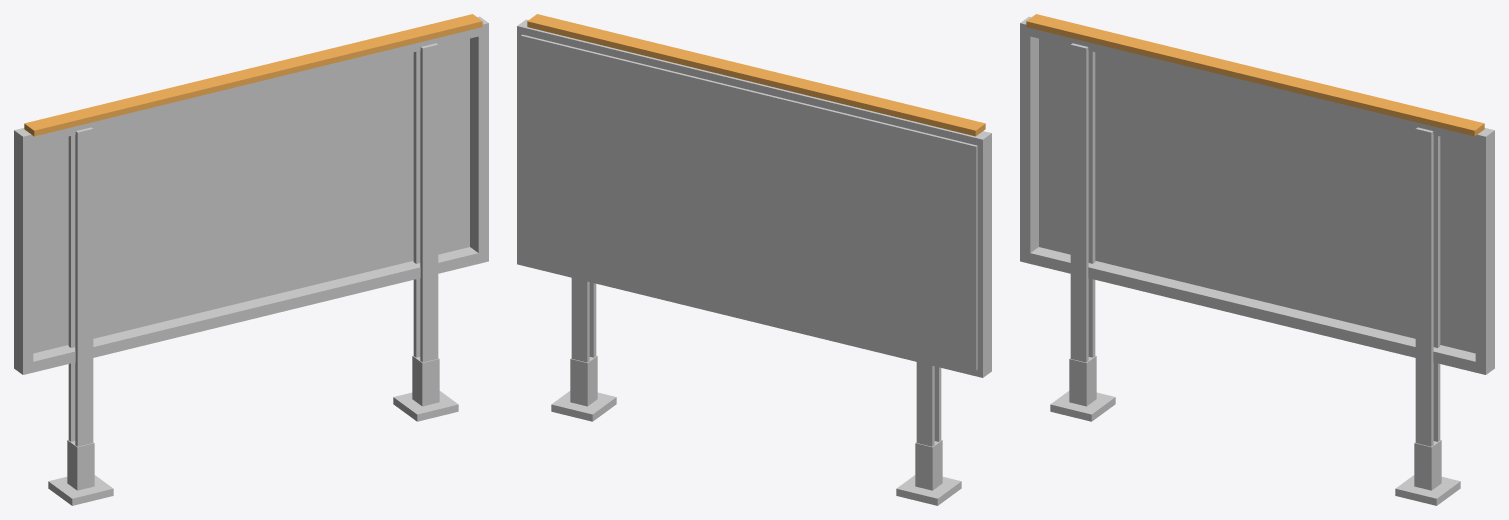
Rendered from GuideSign.glb.
3 renders of one model, left to right at view 1: azimuth 30°, elevation 25°; view 2: azimuth 150°, elevation 25°; view 3: azimuth 330°, elevation 25°, orthographic.
Parts seen in each view (by area): view 1: Body, Glow; view 2: Body, Glow; view 3: Body, Glow.
Boxes of the visible parts, bbox=[...] form: Body: bbox=[14, 16, 488, 505]; Glow: bbox=[24, 14, 482, 136]; Body: bbox=[517, 19, 991, 505]; Glow: bbox=[527, 14, 985, 136]; Body: bbox=[1020, 16, 1494, 505]; Glow: bbox=[1026, 14, 1484, 136].
Size of the model in its own units: 13.5 by 10.46 by 1.2.
